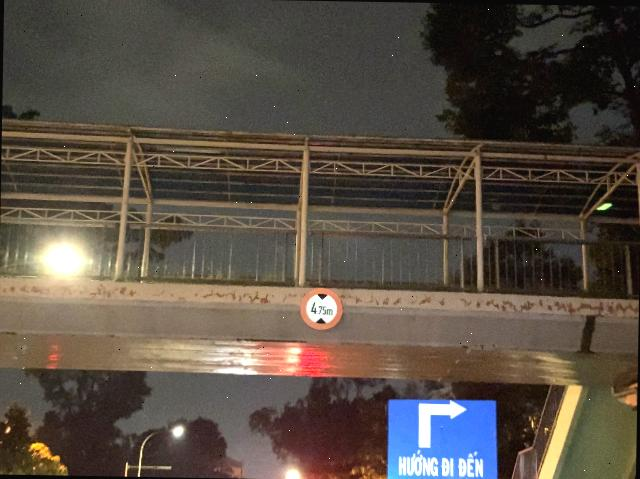han-che-chieu-cao: (300, 287, 344, 330)
